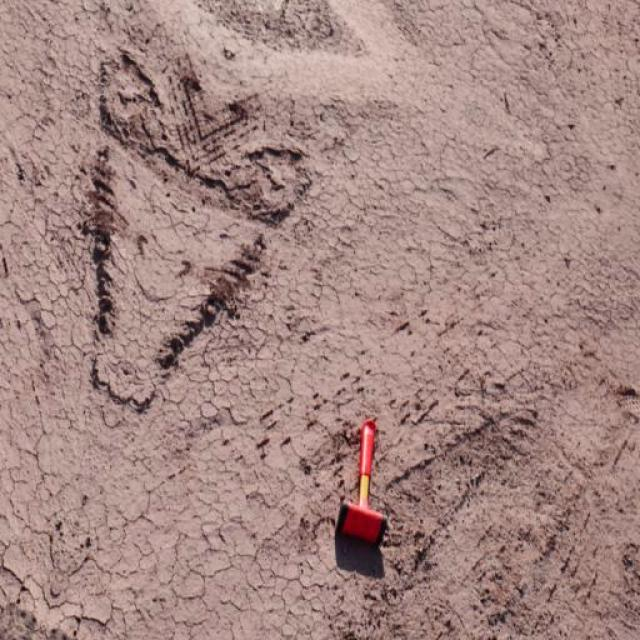mallet: (334, 416, 386, 546)
